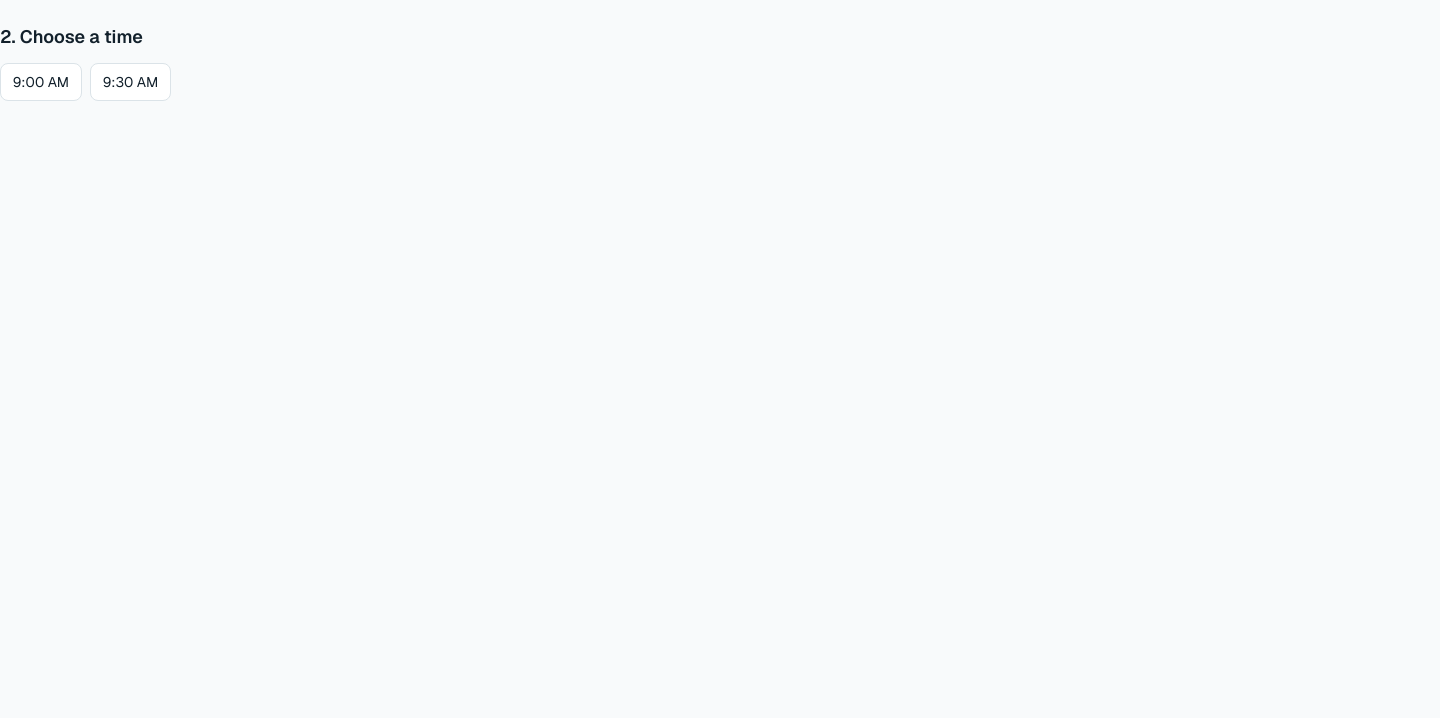
Test: BookingFlow › reuses the idempotency key when retrying the same request
The image size is (1440, 718).
Click the button "9:00 AM" at (41, 82), box [0,63,82,101]
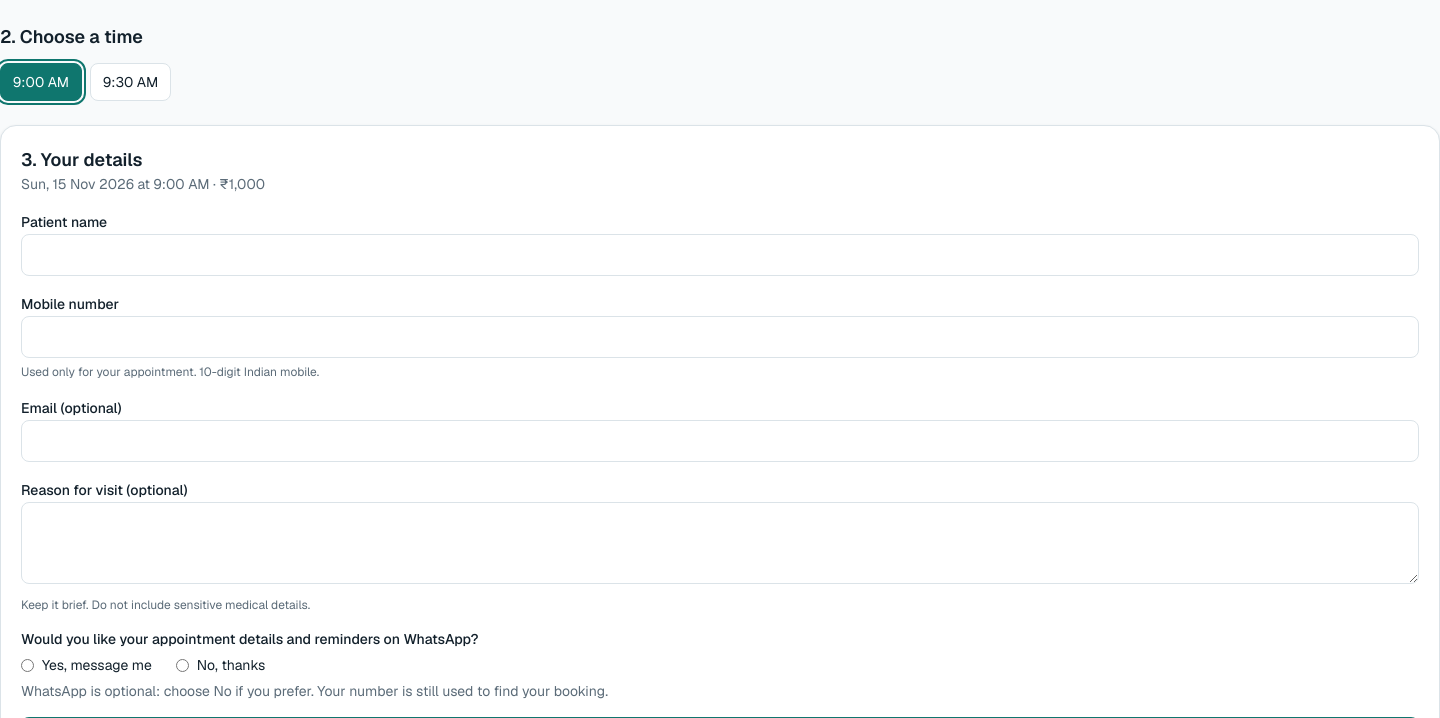
Type "Asha Rao" into the field labelled "Patient name" at (720, 255), box [21,234,1419,276]
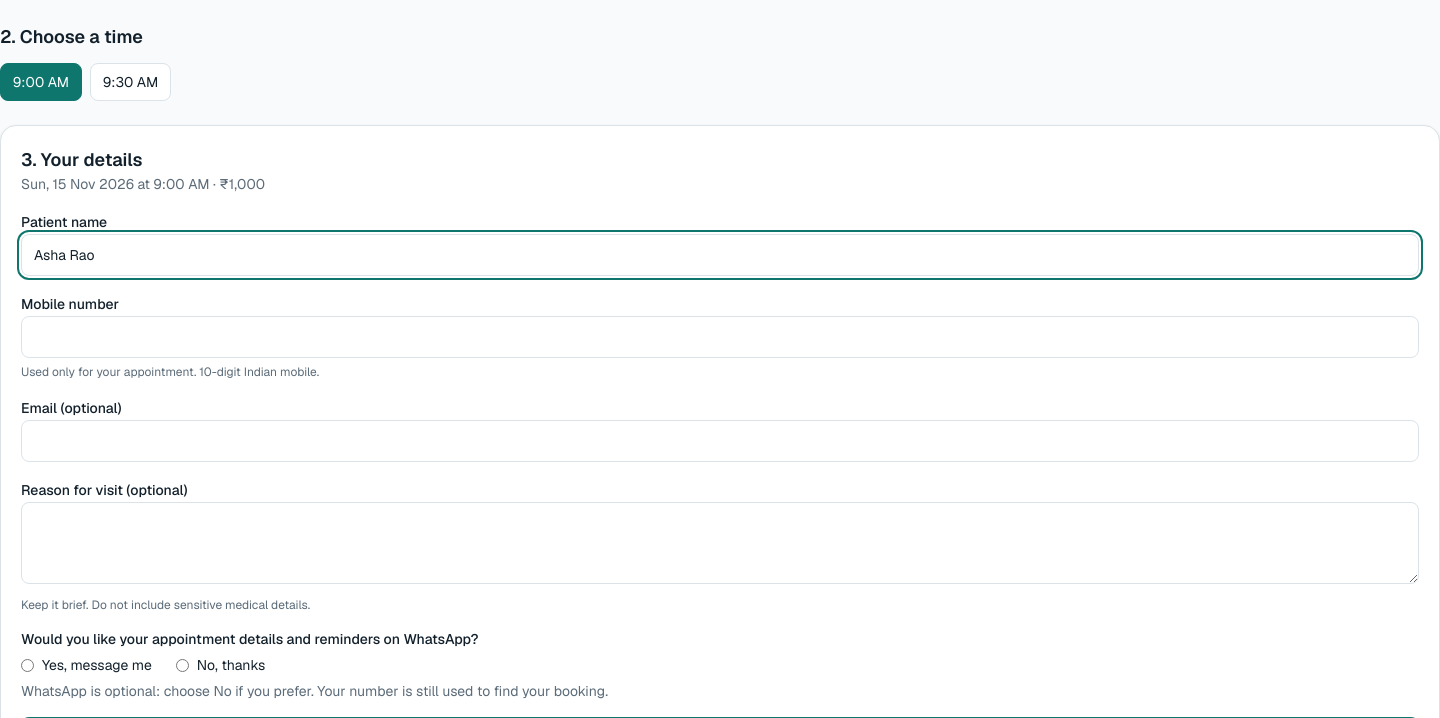
Type "9876543210" into the field labelled "Mobile number" at (720, 337), box [21,316,1419,358]
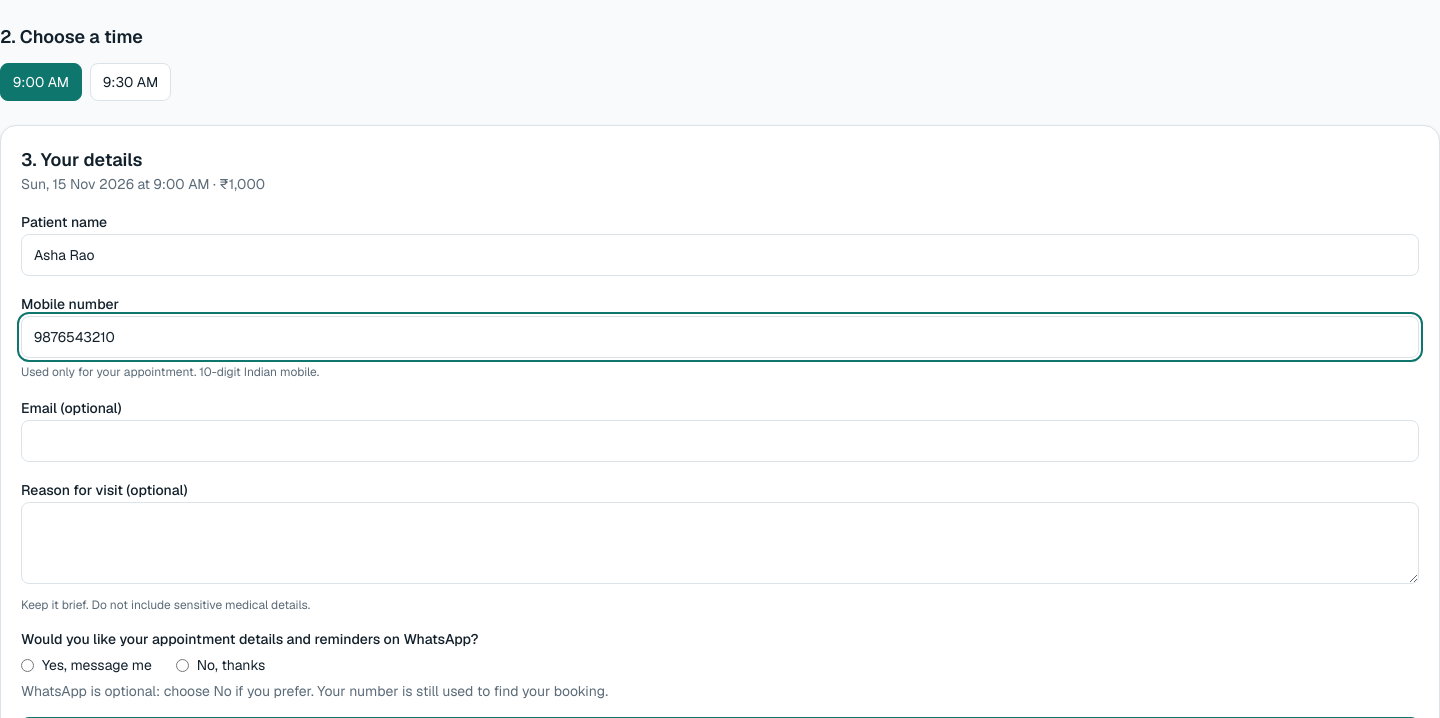
Click the radio button labelled "No, thanks" at (182, 665), box [176,658,189,672]
(page scrolled)
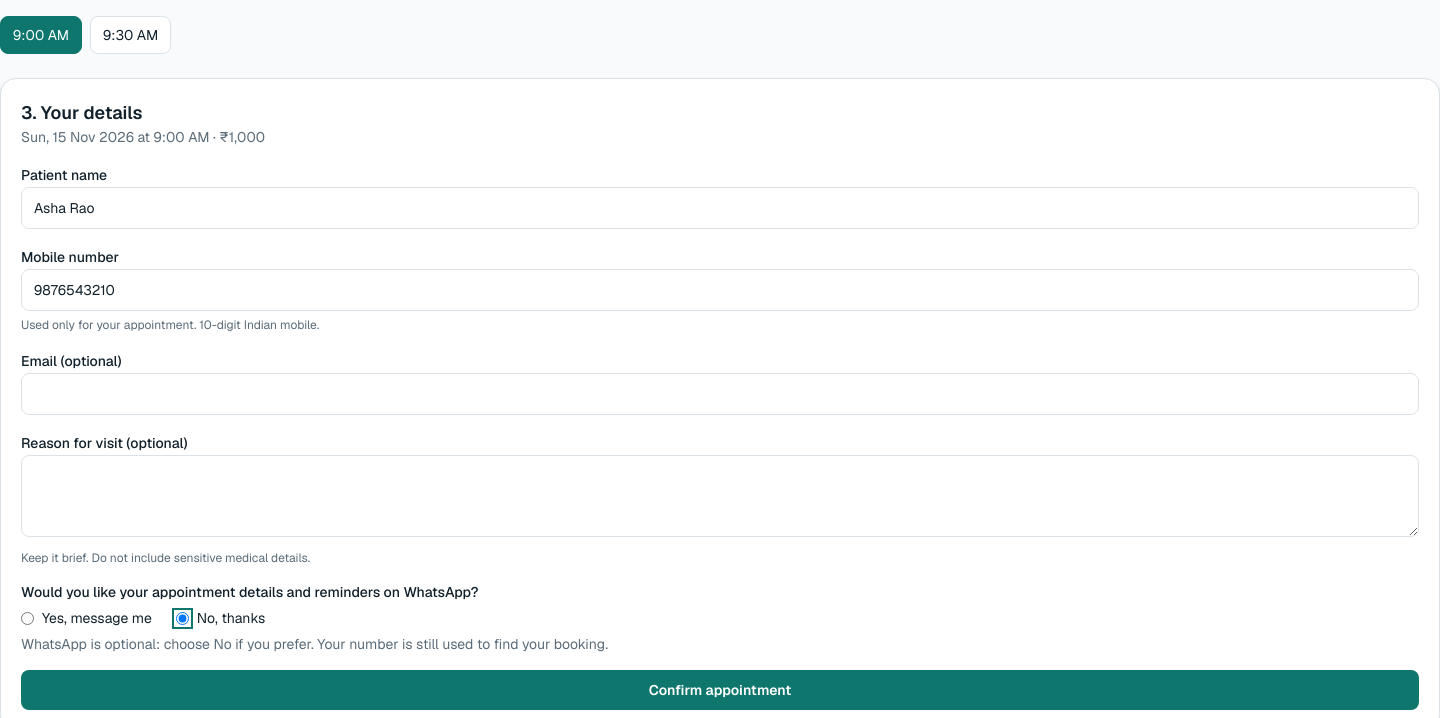
Click the button "Confirm appointment" at (720, 690), box [21,670,1419,710]
(page scrolled)
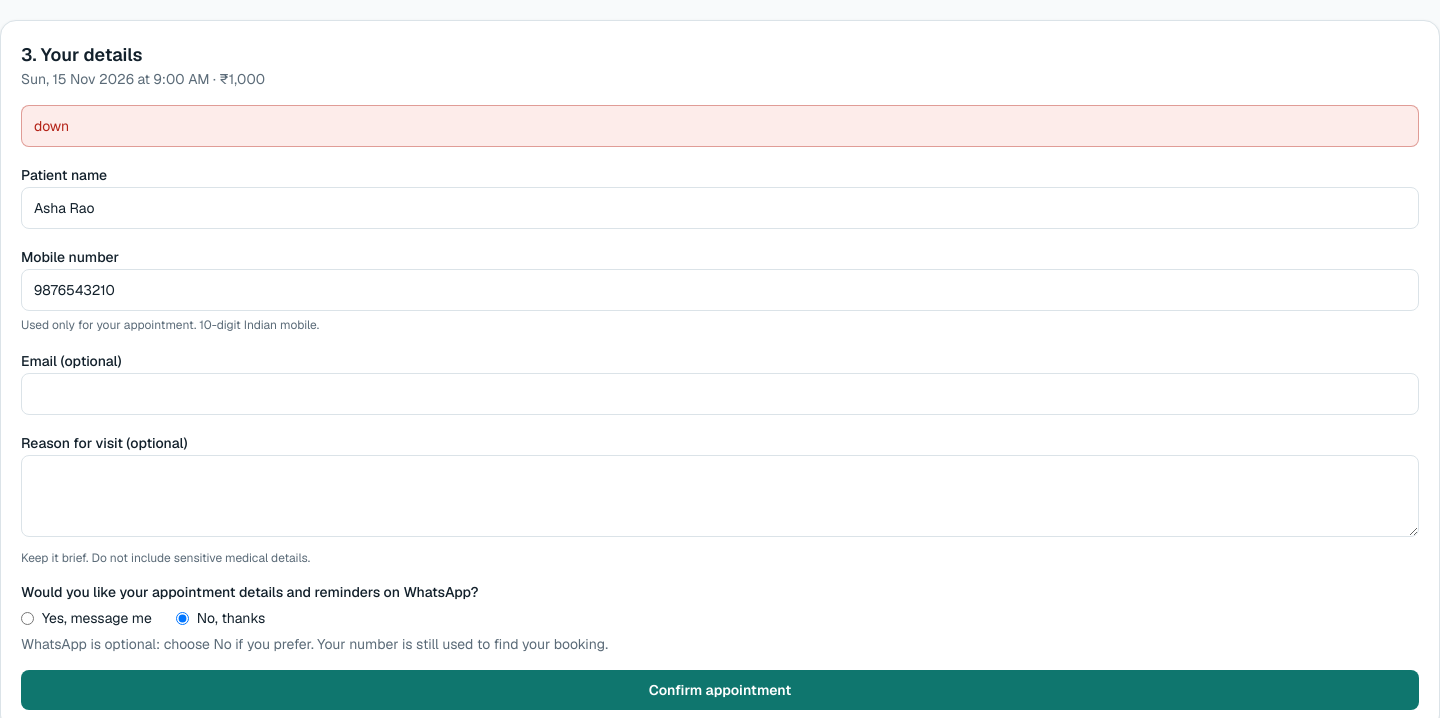
expect the message reads "down": met, box [34,117,69,135]
Click the button "Confirm appointment" at (720, 690), box [21,670,1419,710]
(page scrolled)
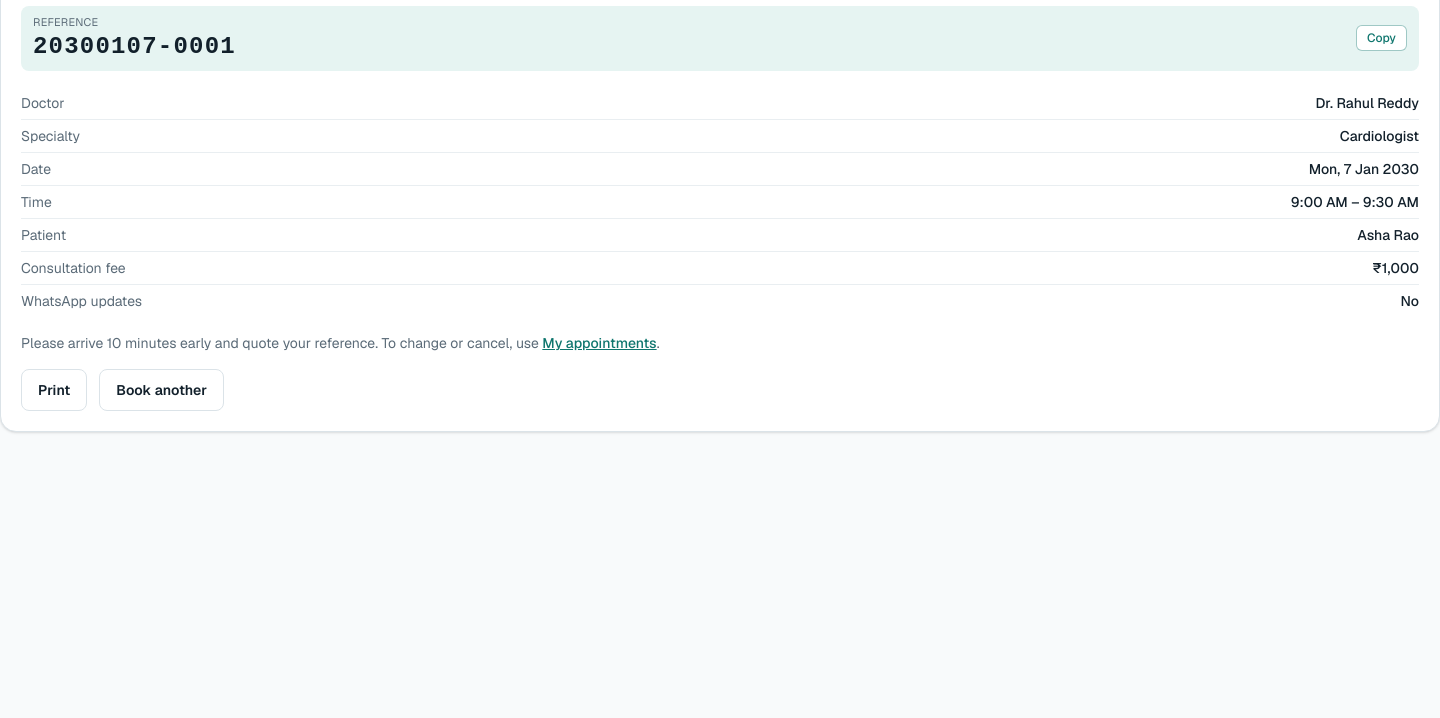
expect the text "20300107-0001" is shown: met, box [33,30,236,62]
